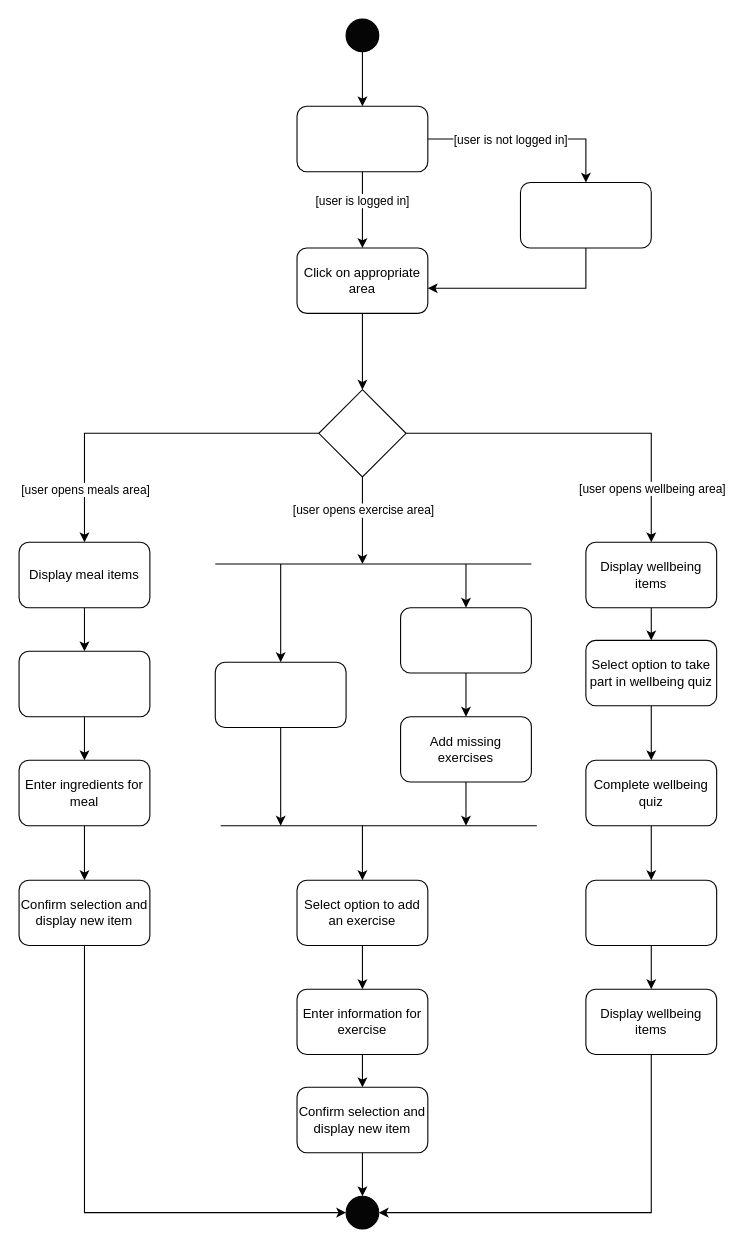
Image size: 744x1248. Some labels were removed from this diagram. The shapes that lost their labels are listed below. From the top down, each one's centre as x and y in pixels, then its label:
[362,138]: Open app
[585,214]: Log into app
[465,640]: Connect to smart device
[84,683]: Select option to add a meal
[280,694]: Display exercise items
[651,912]: Display feedback
